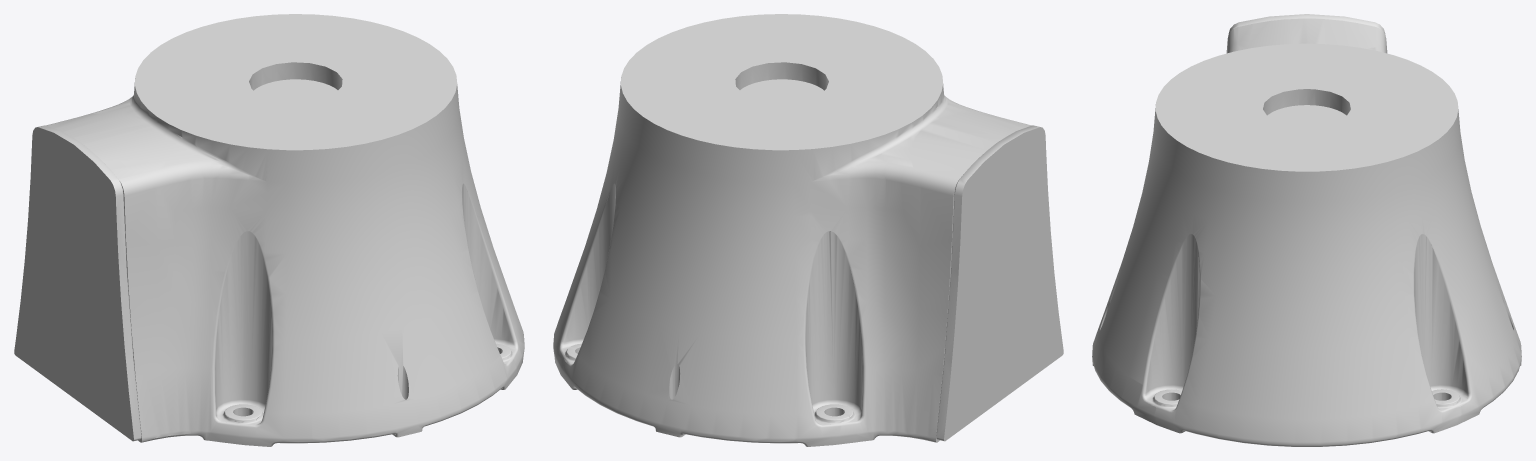
Rendered from v_kuka_link_0.dae.
3 views of the same model, side by side, from view 1: azimuth 30°, elevation 25°; view 2: azimuth 150°, elevation 25°; view 3: azimuth 270°, elevation 25° (orthographic). The views are drawn at different scales.
Visible parts, largest first — view 1: link_0; view 2: link_0; view 3: link_0.
Boxes of the visible parts, x1,y1,x2,y2 form: link_0: (14, 14, 524, 446); link_0: (553, 14, 1063, 446); link_0: (1092, 14, 1521, 446).
Size of the model in its own units: 0.2572 by 0.2428 by 0.1575.
Materials: 1 (1 with a texture image).
